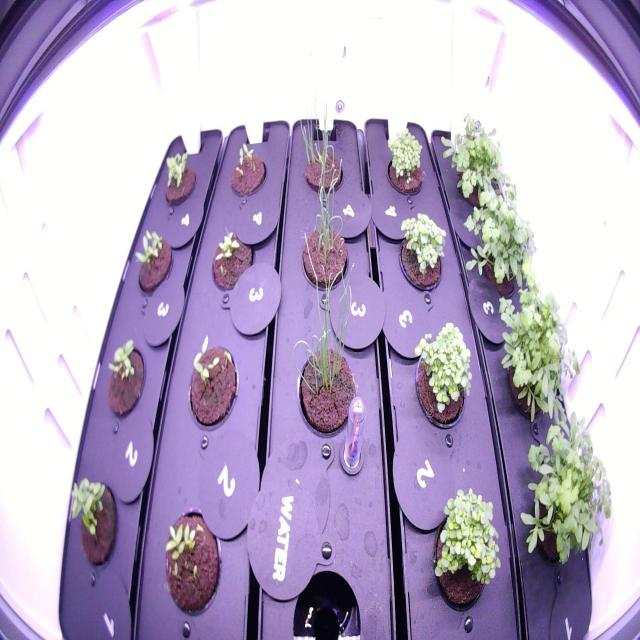germination: (287, 227, 370, 444), (156, 499, 228, 626), (296, 163, 356, 298), (60, 466, 126, 580), (287, 77, 350, 196), (184, 326, 242, 442), (96, 329, 150, 433), (203, 220, 262, 299), (128, 220, 178, 301), (223, 135, 271, 207), (154, 143, 200, 214)
